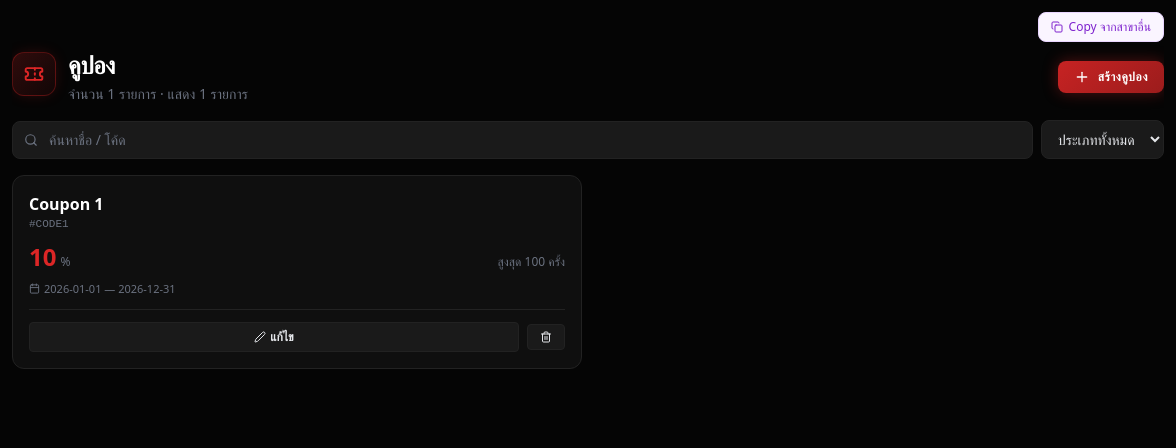
Test case: CouponTab — delete flow › CD3 delete failure shows error banner
Click the 4th button.
click(546, 337)  # box [527, 324, 565, 350]
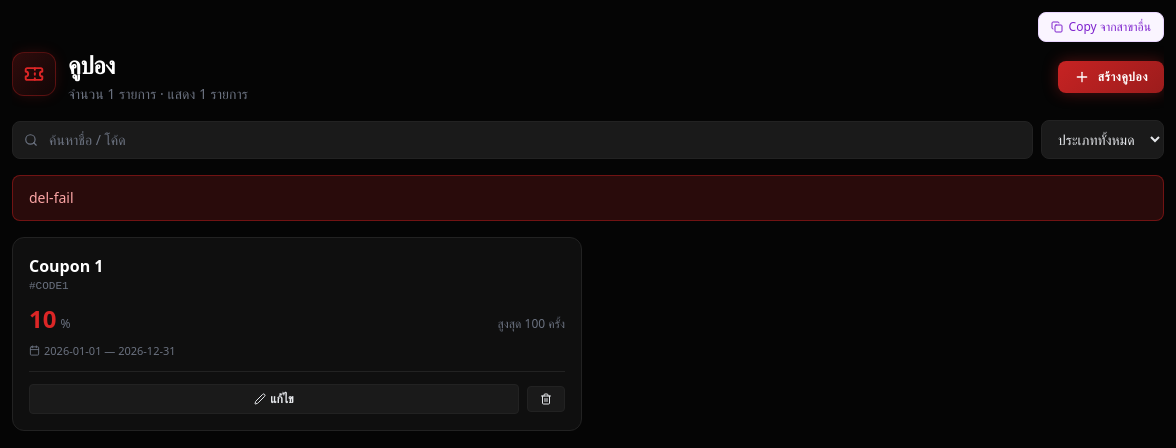
Result: the text "del-fail" is shown at [12, 175, 1164, 221]
